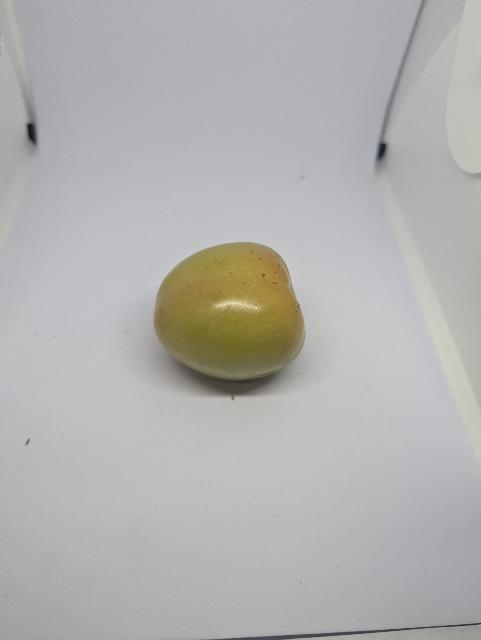breaker: (150, 241, 305, 383)
